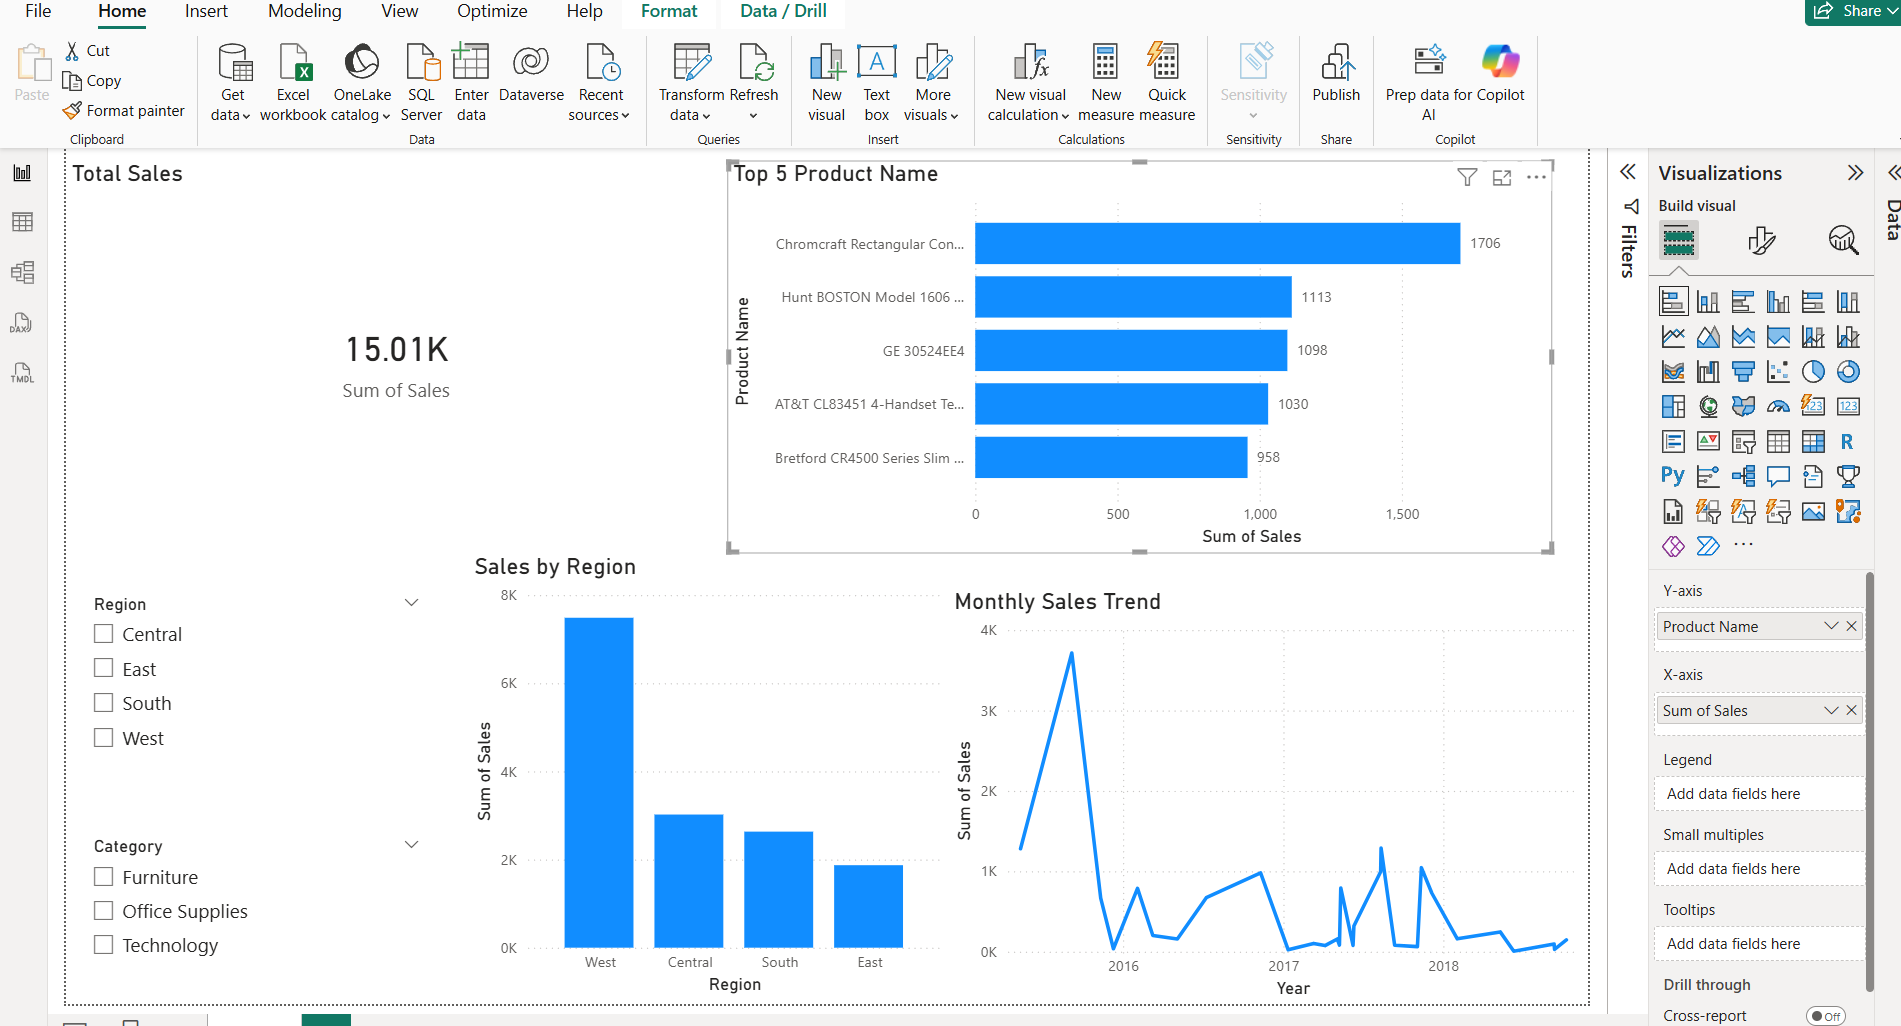

The dashboard page shown, as its layout file describes it:
{"tool":"powerbi","page":{"name":"Page 1","canvas":[1280,720],"ordinal":0},"visuals":[{"type":"card","title":"Total Sales","fields":{"Values":["Sum(sales_data.Sales)"]},"box":[0,11,555.7,314.2],"z":0},{"type":"clusteredColumnChart","title":"Sales by Region","fields":{"Category":["sales_data.Region"],"Y":["Sum(sales_data.Sales)"]},"box":[338.9,340.3,403.4,376],"z":1000},{"type":"barChart","title":"Top 5 Product Name","fields":{"Y":["Sum(sales_data.Sales)"],"Category":["sales_data.Product Name"]},"box":[555.7,11,694.3,329.3],"z":2000},{"type":"lineChart","title":"Monthly Sales Trend","fields":{"Category":["sales_data.Order Date - clean.Variation.Date Hierarchy.Year","sales_data.Order Date - clean.Variation.Date Hierarchy.Quarter","sales_data.Order Date - clean.Variation.Date Hierarchy.Month","sales_data.Order Date - clean.Variation.Date Hierarchy.Day"],"Y":["Sum(sales_data.Sales)"]},"box":[742.4,370.5,537.9,349.9],"z":3000},{"type":"slicer","fields":{"Values":["sales_data.Region"]},"box":[11,370.5,299.1,175.6],"z":3001},{"type":"slicer","fields":{"Values":["sales_data.Category"]},"box":[11,573.6,299.1,142.7],"z":3002}]}

Visuals, with their boxes on the page's 1280x720 design canvas (x1, y1, x2, y2). These are canvas units, not pixel positions in the 1901x1026 screenshot, which may show the page scaled, cropped or inside an application window:
"Total Sales" card: (0,11,556,325)
"Sales by Region" clusteredColumnChart: (339,340,742,716)
"Top 5 Product Name" barChart: (556,11,1250,340)
"Monthly Sales Trend" lineChart: (742,370,1280,720)
slicer - sales_data.Region: (11,370,310,546)
slicer - sales_data.Category: (11,574,310,716)
